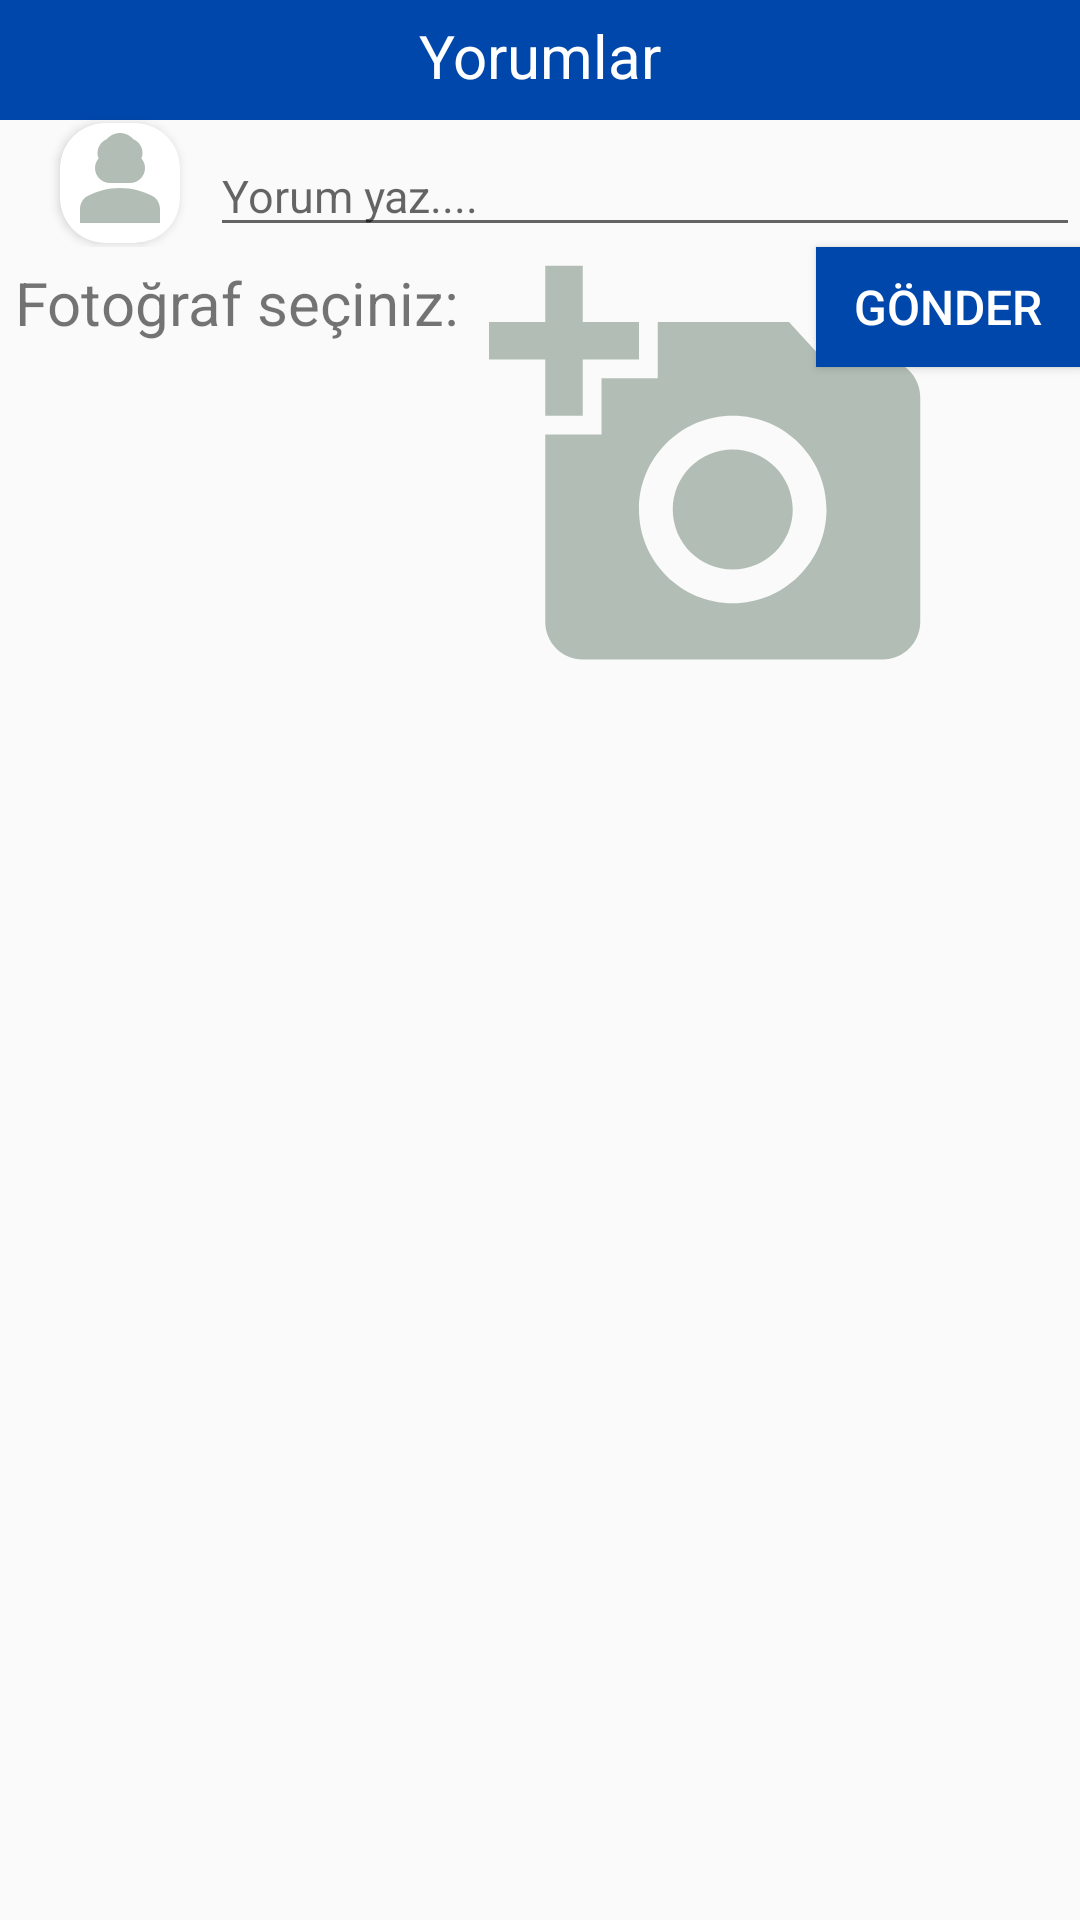

Where icons sit on this 1080 x 1920 app screen, as [x1,y1,x2,y2]:
person: [60,133,160,243]
